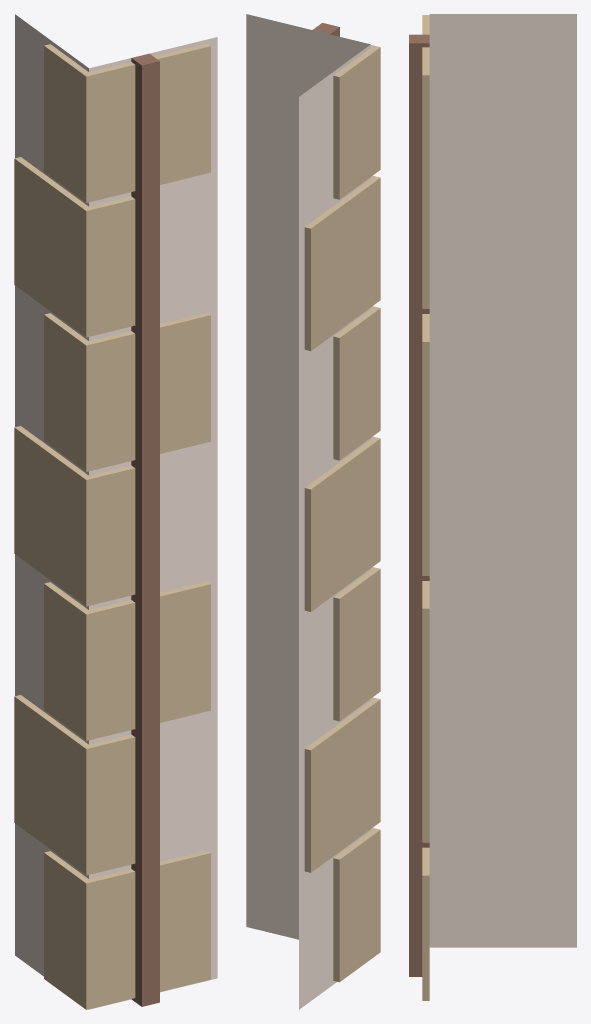
Rendered from mid-c1.fbx.
3 views of the same model, side by side, from view 1: azimuth 30°, elevation 25°; view 2: azimuth 150°, elevation 25°; view 3: azimuth 270°, elevation 25° (orthographic). The views are drawn at different scales.
Parts seen in each view (by area): view 1: a2000s2/200/mid-c1; view 2: a2000s2/200/mid-c1; view 3: a2000s2/200/mid-c1.
Boxes of the visible parts, left/top/right/bottom form: a2000s2/200/mid-c1: left=14, top=14, right=217, bottom=1009; a2000s2/200/mid-c1: left=246, top=14, right=380, bottom=1009; a2000s2/200/mid-c1: left=409, top=14, right=576, bottom=1000.
Size of the model in its own units: 0.525 by 3.5 by 0.57.
